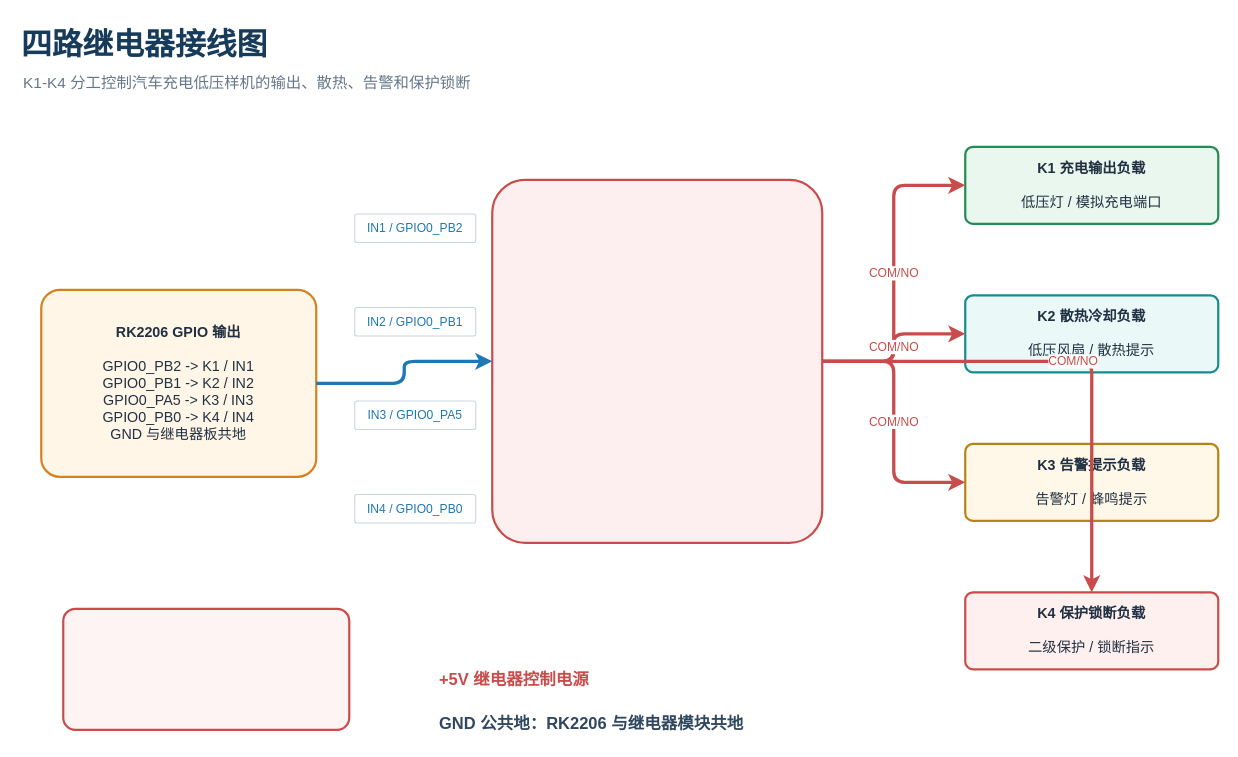
Image size: 1238x757. Some labels were removed from this diagram. The shapes that lost their labels are listed below. From the top down, each one's centre as x and y in pixels, then its label:
the point at 657,360: 四路继电器模块 VCC：5V GND：公共地 IN1-IN4：控制输入 COM/NO：低压负载回路 触发方式：低电平触发
the point at 206,668: 安全说明 本图为低压样机接线关系。 COM/NO 只接 5V/12V 负载。 真实汽车充电需接触器、漏保、隔离和认证接口。
